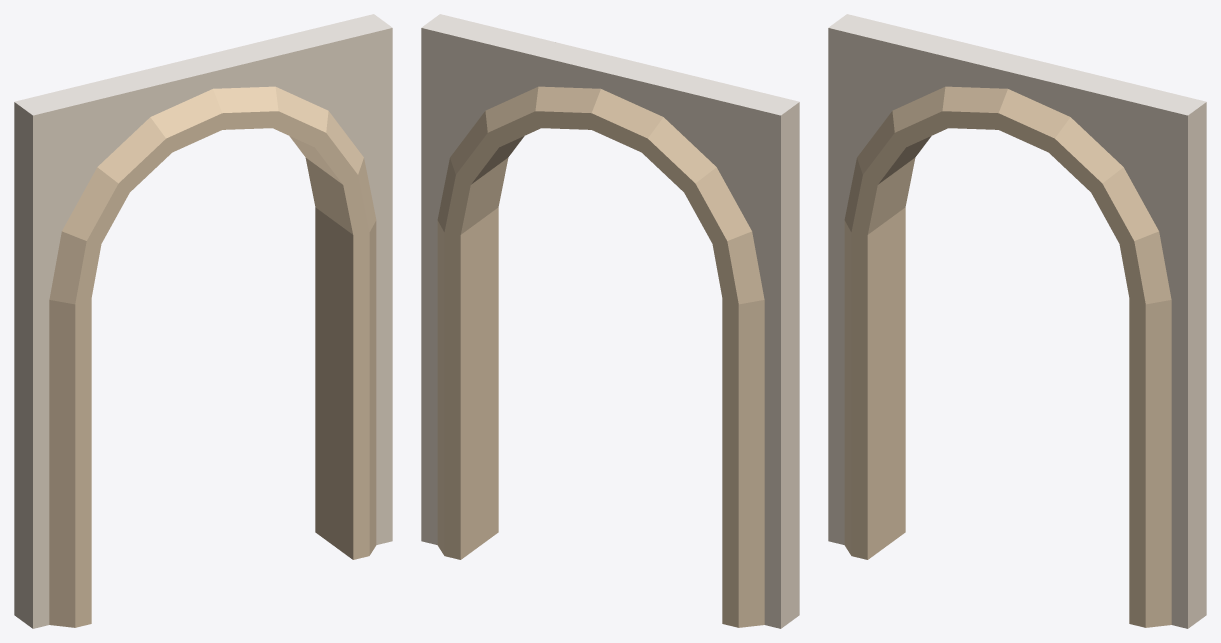
Rendered from Wall_Straight_Doorway_Large.glb.
3 views of the same model, side by side, from view 1: azimuth 30°, elevation 25°; view 2: azimuth 150°, elevation 25°; view 3: azimuth 330°, elevation 25° (orthographic).
Visible parts, largest first — view 1: Wall_Straight_Doorway_Large; view 2: Wall_Straight_Doorway_Large; view 3: Wall_Straight_Doorway_Large.
Part boxes in pixels (x1,y1,x2,y2): Wall_Straight_Doorway_Large: (14, 14, 392, 628); Wall_Straight_Doorway_Large: (421, 14, 799, 628); Wall_Straight_Doorway_Large: (828, 14, 1206, 628).
Bounding box in the file's own units: 2.2 × 3 × 0.4.
